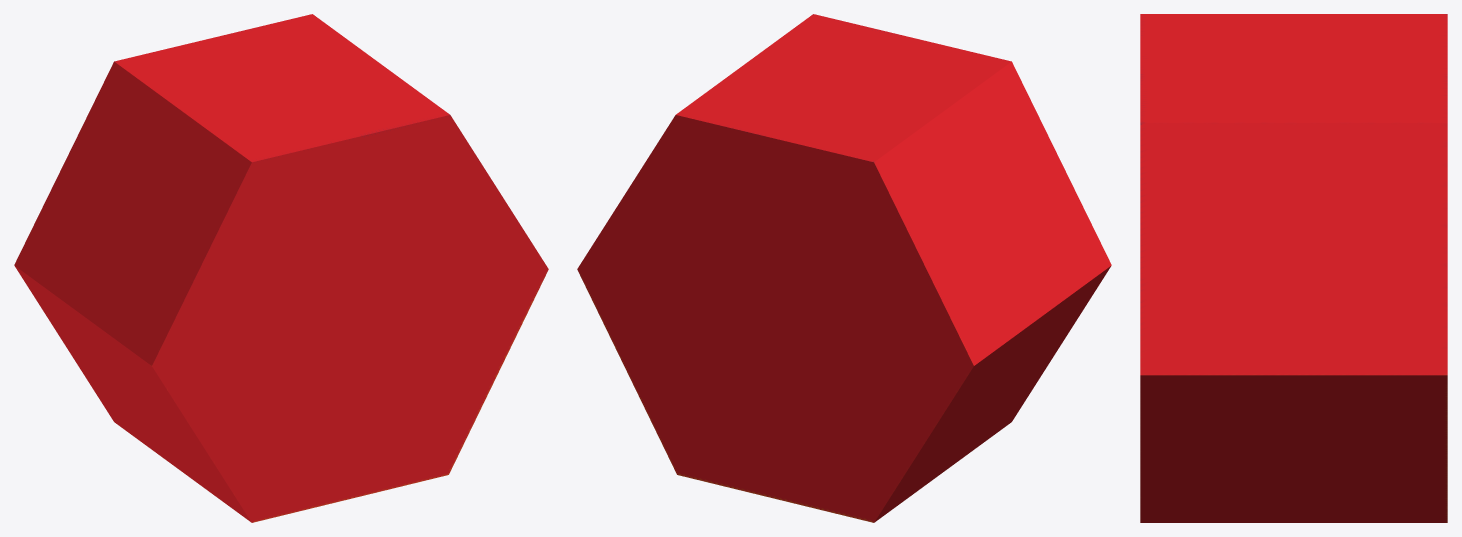
File: pergunta8.glb
The picture shows the model from 3 angles, left to right: view 1: azimuth 30°, elevation 25°; view 2: azimuth 150°, elevation 25°; view 3: azimuth 270°, elevation 25°; orthographic projection. The views are drawn at different scales.
Visible parts, largest first — view 1: node_id30; view 2: node_id30; view 3: node_id30.
Part boxes in pixels (bbox=[...]): node_id30: bbox=[14, 14, 548, 522]; node_id30: bbox=[577, 14, 1111, 522]; node_id30: bbox=[1140, 14, 1447, 522].
Bounding box in the file's own units: 0.512 × 0.4445 × 0.3079.
1 material, 1 textured.
